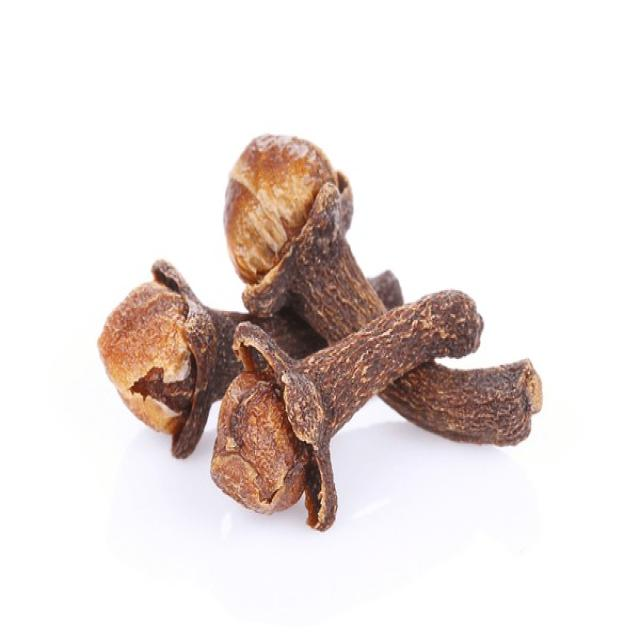clove: (99, 135, 541, 528)
